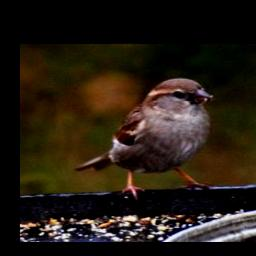Sparrow: (75, 76, 218, 202)
